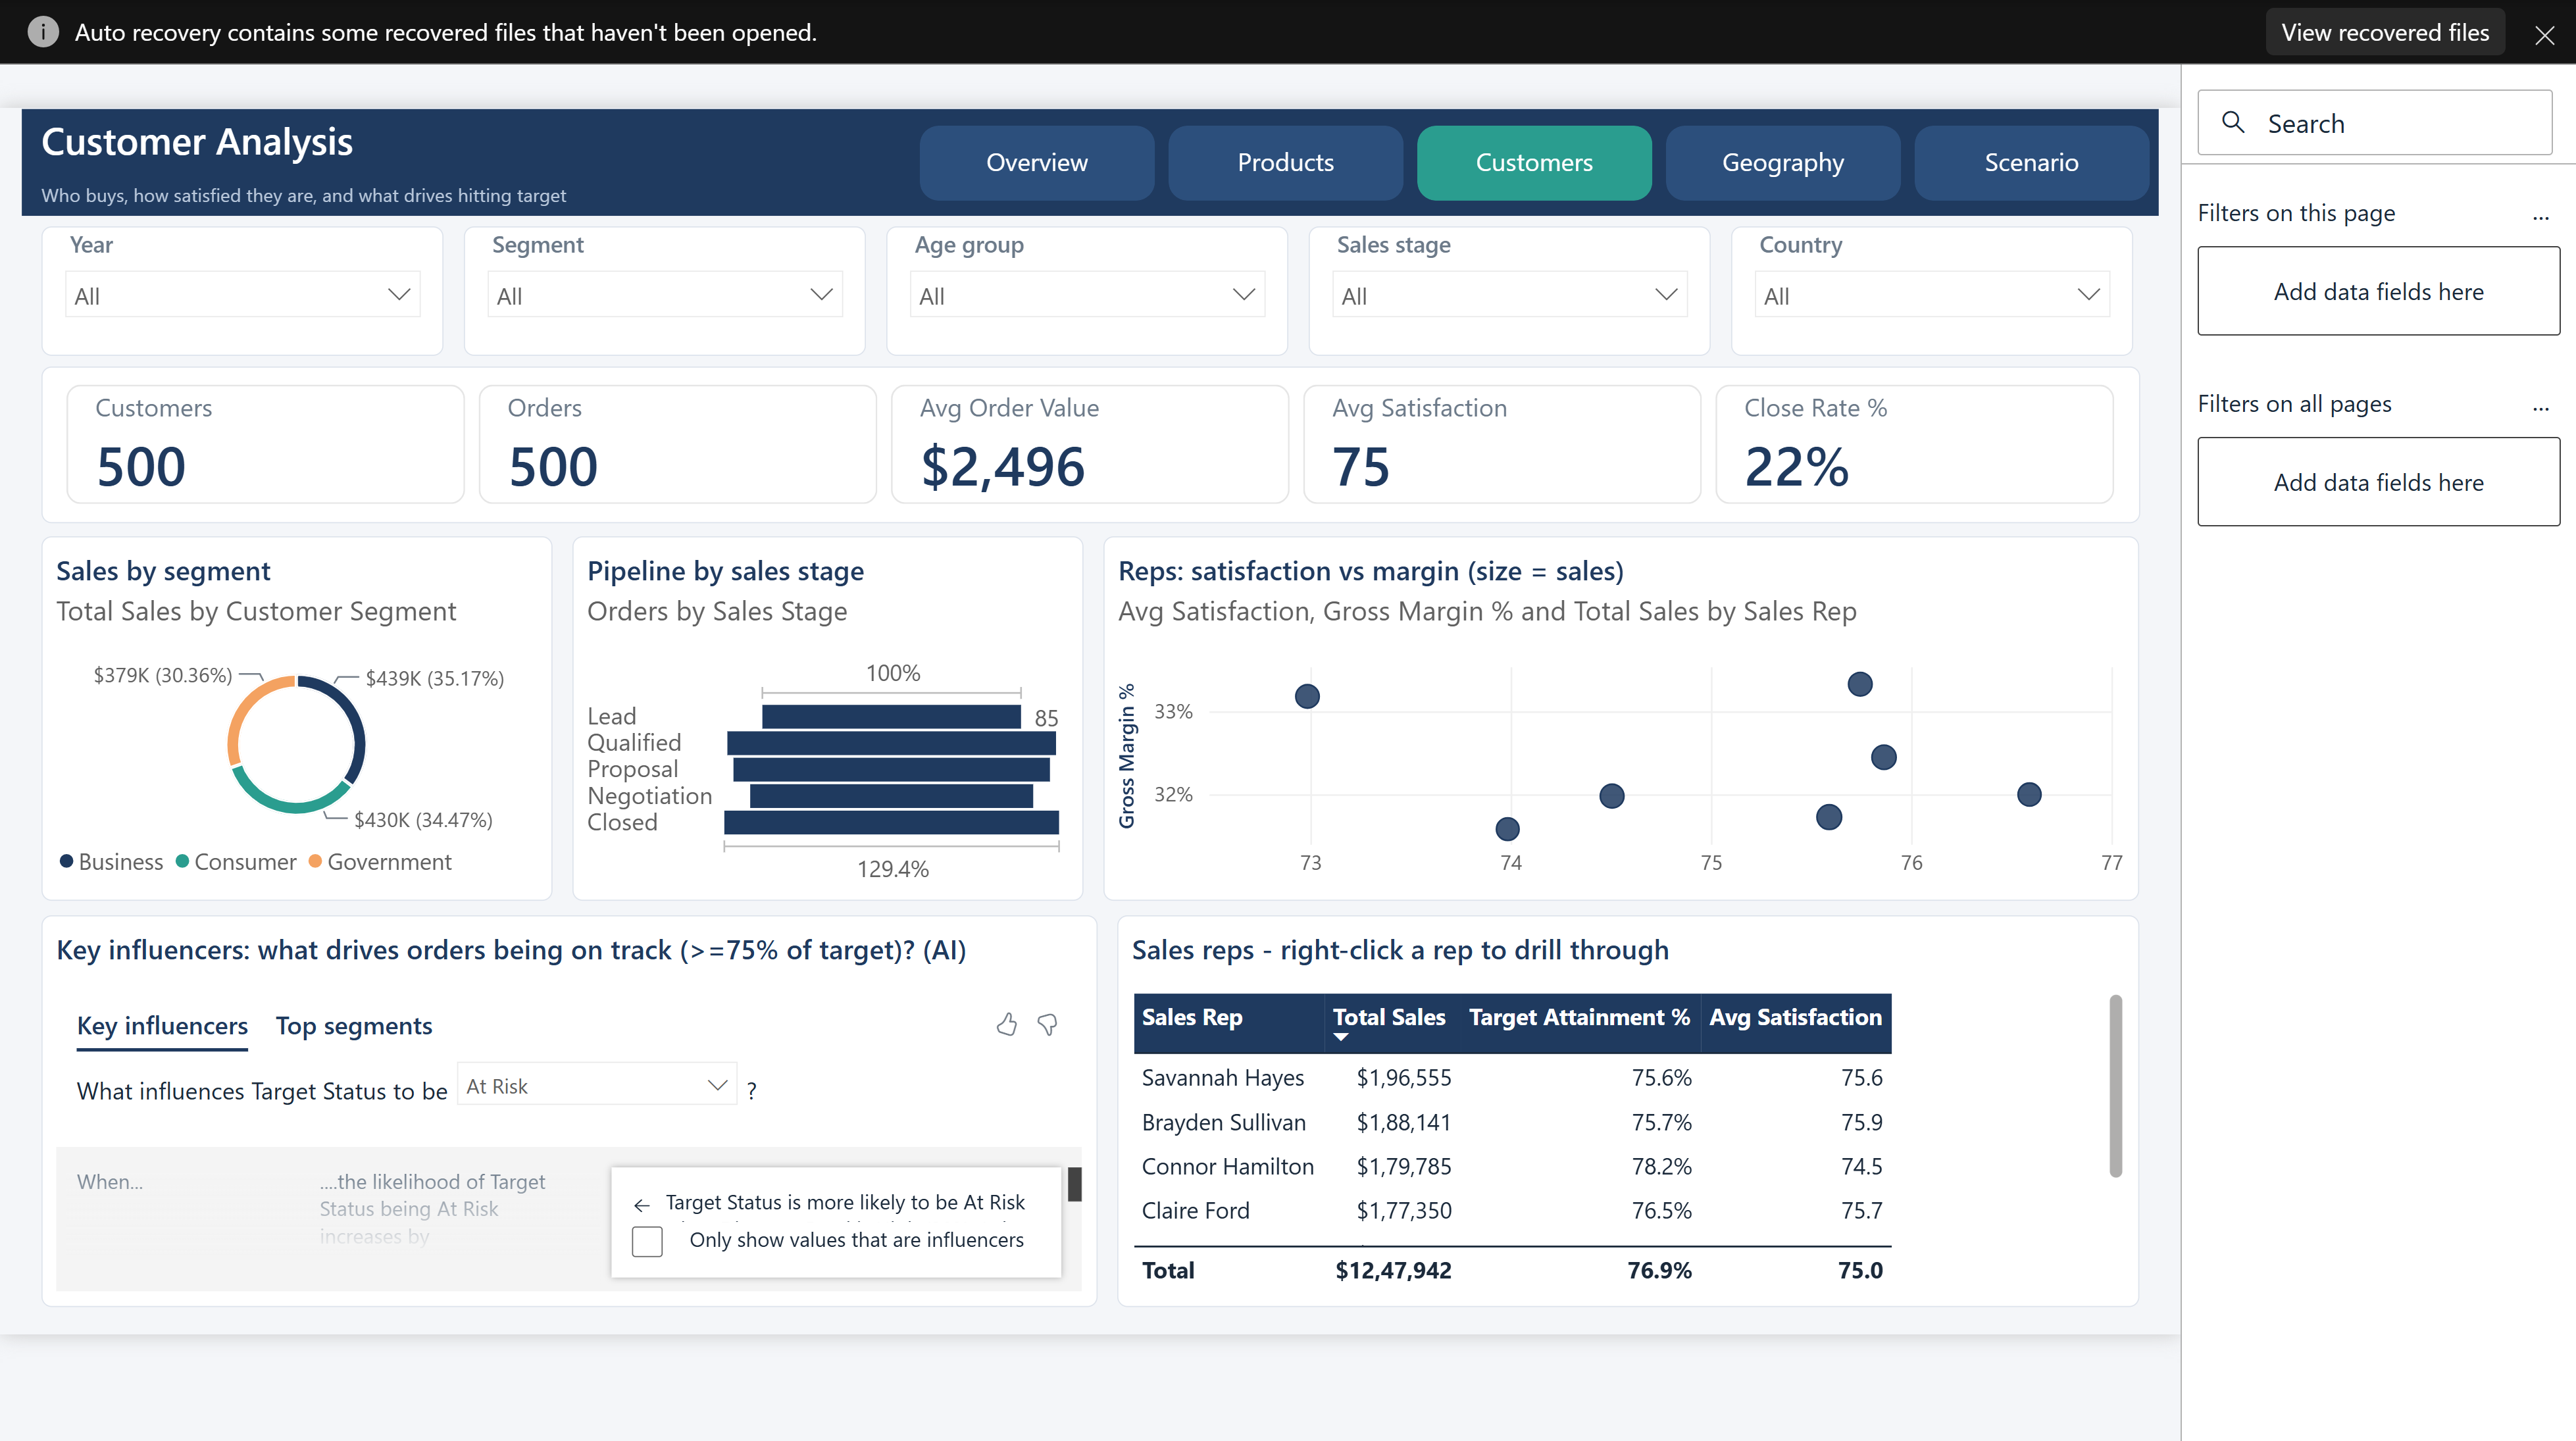

The dashboard page shown, as its layout file describes it:
{"tool":"powerbi","page":{"name":"Customer Analysis","canvas":[1280,720],"ordinal":2},"visuals":[{"type":"basicShape","box":[0,0,1280,64],"z":1010},{"type":"textbox","box":[24,4,470,36],"z":1020},{"type":"textbox","box":[24,40,470,22],"z":1030},{"type":"actionButton","box":[540,10,138,44],"z":1040},{"type":"actionButton","box":[686,10,138,44],"z":1050},{"type":"actionButton","box":[832,10,138,44],"z":1060},{"type":"actionButton","box":[978,10,138,44],"z":1070},{"type":"actionButton","box":[1124,10,138,44],"z":1080},{"type":"slicer","fields":{"Values":["Date.Year"]},"box":[24,70,236,76],"z":1090},{"type":"slicer","fields":{"Values":["Sales.Customer Segment"]},"box":[272,70,236,76],"z":1100},{"type":"slicer","fields":{"Values":["Sales.Age Group"]},"box":[520,70,236,76],"z":1110},{"type":"slicer","fields":{"Values":["Sales.Sales Stage"]},"box":[768,70,236,76],"z":1120},{"type":"slicer","fields":{"Values":["Sales.Country"]},"box":[1016,70,236,76],"z":1130},{"type":"cardVisual","fields":{"Data":["Sales.Customers","Sales.Orders","Sales.Avg Order Value","Sales.Avg Satisfaction","Sales.Close Rate %"]},"box":[24,152,1232,92],"z":1140},{"type":"donutChart","title":"Sales by segment","fields":{"Category":["Sales.Customer Segment"],"Y":["Sales.Total Sales"]},"box":[24,252,300,214],"z":1150},{"type":"funnel","title":"Pipeline by sales stage","fields":{"Category":["Sales.Sales Stage"],"Y":["Sales.Orders"]},"box":[336,252,300,214],"z":1160},{"type":"scatterChart","title":"Reps: satisfaction vs margin (size = sales)","fields":{"Category":["Sales.Sales Rep"],"Size":["Sales.Total Sales"],"X":["Sales.Avg Satisfaction"],"Y":["Sales.Gross Margin %"]},"box":[648,252,608,214],"z":1170},{"type":"keyDriversVisual","title":"Key influencers: what drives orders being on track (>=75% of target)? (AI)","fields":{"ExplainBy":["Sales.Customer Segment","Sales.Age Group","Sales.Channel","Sales.Region","Sales.Product Category","Sales.Discount Band"],"Target":["Sales.Target Status"]},"box":[24,474,620,230],"z":1180},{"type":"tableEx","title":"Sales reps - right-click a rep to drill through","fields":{"Values":["Sales.Sales Rep","Sales.Total Sales","Sales.Target Attainment %","Sales.Avg Satisfaction"]},"box":[656,474,600,230],"z":1190}]}

Visuals, with their boxes on the page's 1280x720 design canvas (x1, y1, x2, y2). These are canvas units, not pixel positions in the 2576x1441 screenshot, which may show the page scaled, cropped or inside an application window:
basicShape: crop(0, 0, 1280, 64)
textbox: crop(24, 4, 494, 40)
textbox: crop(24, 40, 494, 62)
actionButton: crop(540, 10, 678, 54)
actionButton: crop(686, 10, 824, 54)
actionButton: crop(832, 10, 970, 54)
actionButton: crop(978, 10, 1116, 54)
actionButton: crop(1124, 10, 1262, 54)
slicer - Date.Year: crop(24, 70, 260, 146)
slicer - Sales.Customer Segment: crop(272, 70, 508, 146)
slicer - Sales.Age Group: crop(520, 70, 756, 146)
slicer - Sales.Sales Stage: crop(768, 70, 1004, 146)
slicer - Sales.Country: crop(1016, 70, 1252, 146)
cardVisual - Sales.Customers x Sales.Orders: crop(24, 152, 1256, 244)
"Sales by segment" donutChart: crop(24, 252, 324, 466)
"Pipeline by sales stage" funnel: crop(336, 252, 636, 466)
"Reps: satisfaction vs margin (size = sales)" scatterChart: crop(648, 252, 1256, 466)
"Key influencers: what drives orders being on track (>=75% of target)? (AI)" keyDriversVisual: crop(24, 474, 644, 704)
"Sales reps - right-click a rep to drill through" tableEx: crop(656, 474, 1256, 704)
